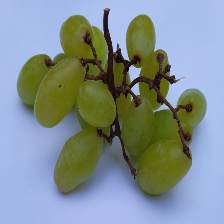grapes: (35, 42, 223, 221)
